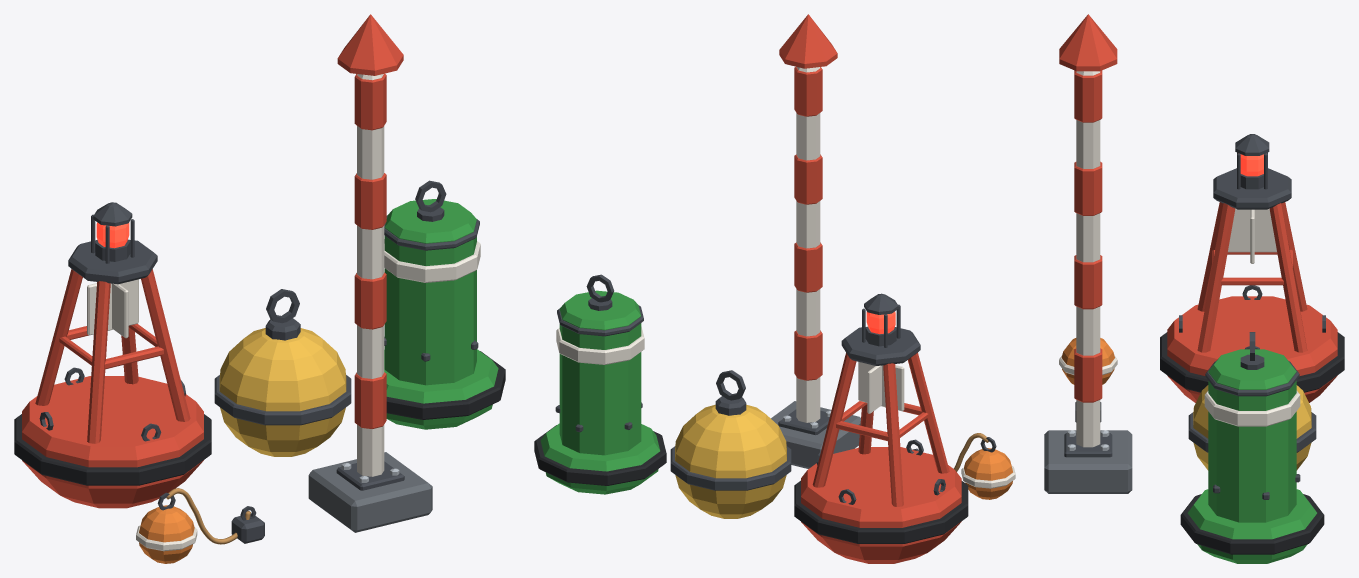
Rendered from buoys-and-markers.glb.
3 views of the same model, side by side, from view 1: azimuth 30°, elevation 25°; view 2: azimuth 150°, elevation 25°; view 3: azimuth 270°, elevation 25° (orthographic). The views are drawn at different scales.
Parts seen in each view (by area): view 1: GreenBuoy_Hull, RedBuoy_Hull, MooringBall_Shell, MarkerPole_Pole, MarkerPole_Base, RedBuoy_Fender, MarkerPole_Topmark, RedBuoy_Platform, RedBuoy_Leg2, MooringBall_Band, GreenBuoy_Fender, RedBuoy_Leg3 (+20 smaller); view 2: GreenBuoy_Hull, RedBuoy_Hull, MooringBall_Shell, MarkerPole_Pole, RedBuoy_Fender, GreenBuoy_Fender, MarkerPole_Base, MarkerPole_Topmark, RedBuoy_Platform, RedBuoy_Leg1, MooringBall_Band, RedBuoy_Leg0 (+11 smaller); view 3: GreenBuoy_Hull, RedBuoy_Hull, MarkerPole_Pole, MarkerPole_Base, GreenBuoy_Fender, MarkerPole_Topmark, RedBuoy_Platform, RedBuoy_Fender, RedBuoy_Leg0, RedBuoy_Leg3, RedBuoy_Daymark_B, GreenBuoy_Band (+14 smaller).
Part boxes in pixels (x1=…): GreenBuoy_Hull: x1=384, y1=199, x2=498, y2=429; RedBuoy_Hull: x1=22, y1=376, x2=203, y2=508; MooringBall_Shell: x1=219, y1=328, x2=346, y2=456; MarkerPole_Pole: x1=357, y1=74, x2=384, y2=476; MarkerPole_Base: x1=308, y1=452, x2=432, y2=532; RedBuoy_Fender: x1=14, y1=414, x2=211, y2=485; MarkerPole_Topmark: x1=337, y1=14, x2=403, y2=75; RedBuoy_Platform: x1=68, y1=239, x2=157, y2=284; RedBuoy_Leg2: x1=87, y1=281, x2=110, y2=443; MooringBall_Band: x1=214, y1=375, x2=351, y2=425; GreenBuoy_Fender: x1=386, y1=351, x2=505, y2=419; RedBuoy_Leg3: x1=141, y1=269, x2=190, y2=421; GreenBuoy_Hull: x1=540, y1=290, x2=660, y2=494; RedBuoy_Hull: x1=801, y1=447, x2=961, y2=563; MooringBall_Shell: x1=675, y1=404, x2=786, y2=518; MarkerPole_Pole: x1=796, y1=67, x2=820, y2=422; RedBuoy_Fender: x1=794, y1=480, x2=968, y2=543; GreenBuoy_Fender: x1=534, y1=425, x2=666, y2=485; MarkerPole_Base: x1=771, y1=401, x2=860, y2=468; MarkerPole_Topmark: x1=779, y1=14, x2=837, y2=68; RedBuoy_Platform: x1=841, y1=327, x2=920, y2=365; RedBuoy_Leg1: x1=883, y1=363, x2=903, y2=506; MooringBall_Band: x1=670, y1=446, x2=791, y2=490; RedBuoy_Leg0: x1=812, y1=353, x2=856, y2=487; GreenBuoy_Hull: x1=1187, y1=349, x2=1316, y2=563; RedBuoy_Hull: x1=1167, y1=296, x2=1337, y2=402; MarkerPole_Pole: x1=1076, y1=71, x2=1100, y2=447; MarkerPole_Base: x1=1044, y1=430, x2=1132, y2=493; GreenBuoy_Fender: x1=1180, y1=494, x2=1324, y2=554; MarkerPole_Topmark: x1=1059, y1=14, x2=1117, y2=71; RedBuoy_Platform: x1=1213, y1=168, x2=1291, y2=209; RedBuoy_Fender: x1=1160, y1=332, x2=1344, y2=392; RedBuoy_Leg0: x1=1269, y1=203, x2=1307, y2=352; RedBuoy_Leg3: x1=1197, y1=203, x2=1235, y2=352; RedBuoy_Daymark_B: x1=1228, y1=208, x2=1276, y2=252; GreenBuoy_Band: x1=1204, y1=390, x2=1300, y2=426.
Bounding box in the file's own units: 13.72 × 13.9 × 8.18.
